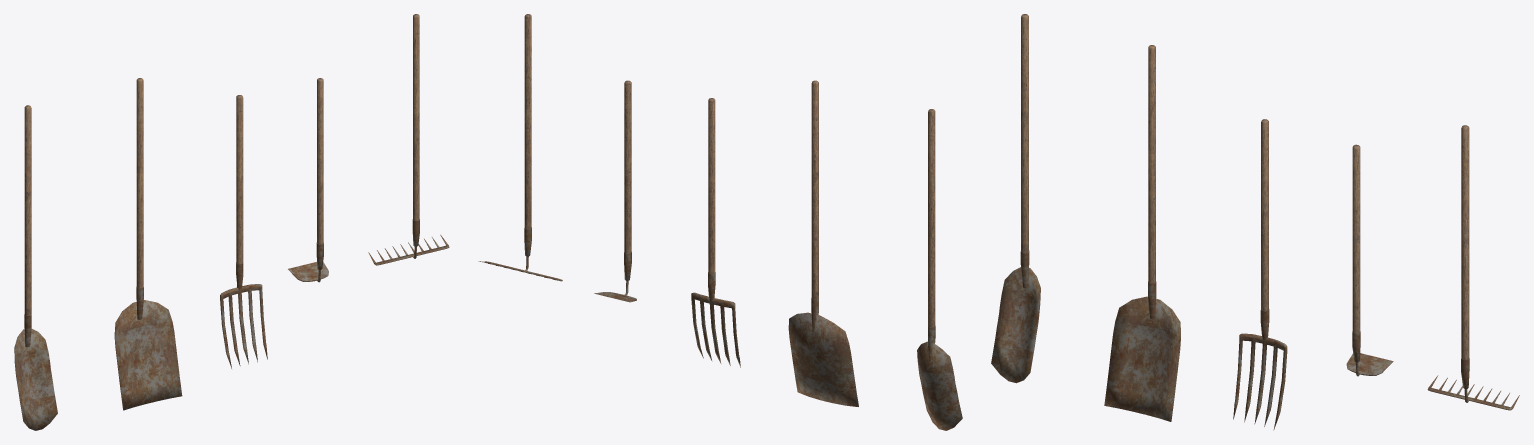
The model's file is Farm Equipment.fbx.
3 renders of one model, left to right at view 1: azimuth 30°, elevation 25°; view 2: azimuth 150°, elevation 25°; view 3: azimuth 330°, elevation 25°, orthographic. The views are drawn at different scales.
Visible parts, largest first — view 1: Cube, Cube.002, Cube.003, Cube.004, Cube.001; view 2: Cube, Cube.002, Cube.003, Cube.004, Cube.001; view 3: Cube, Cube.002, Cube.003, Cube.004, Cube.001.
Boxes of the visible parts, <box> form: Cube: <box>114,78,182,410</box>; Cube.002: <box>14,105,57,430</box>; Cube.003: <box>220,95,267,368</box>; Cube.004: <box>368,14,449,265</box>; Cube.001: <box>288,78,328,282</box>; Cube: <box>788,80,858,406</box>; Cube.002: <box>917,109,962,430</box>; Cube.003: <box>691,98,740,367</box>; Cube.004: <box>478,14,562,281</box>; Cube.001: <box>594,80,636,302</box>; Cube: <box>1104,45,1180,421</box>; Cube.002: <box>991,14,1040,383</box>; Cube.003: <box>1233,119,1287,430</box>; Cube.004: <box>1427,125,1519,410</box>; Cube.001: <box>1346,144,1393,376</box>.
Size of the model in its own units: 1505 by 1026 by 165.
1 material, 1 textured.
